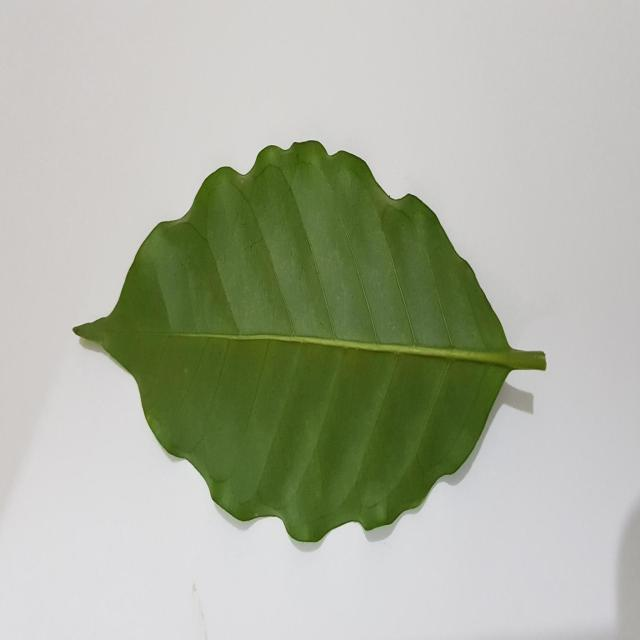nodisease: (73, 141, 546, 542)
